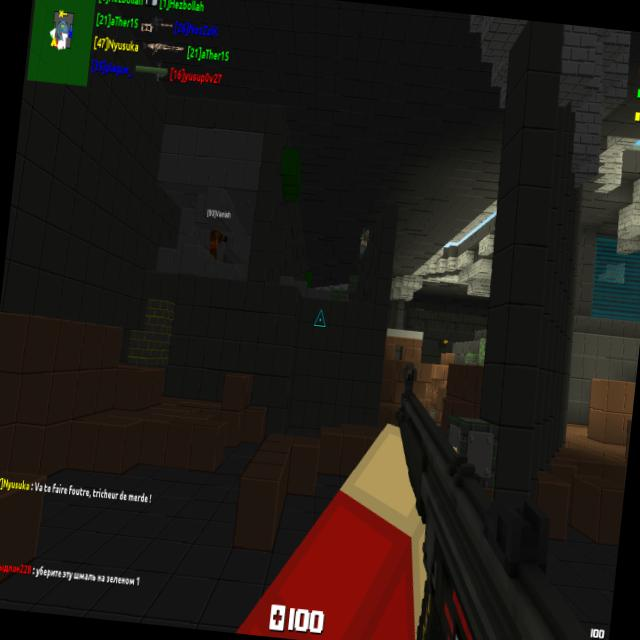enemy: (357, 225, 372, 261), (443, 339, 448, 344)
